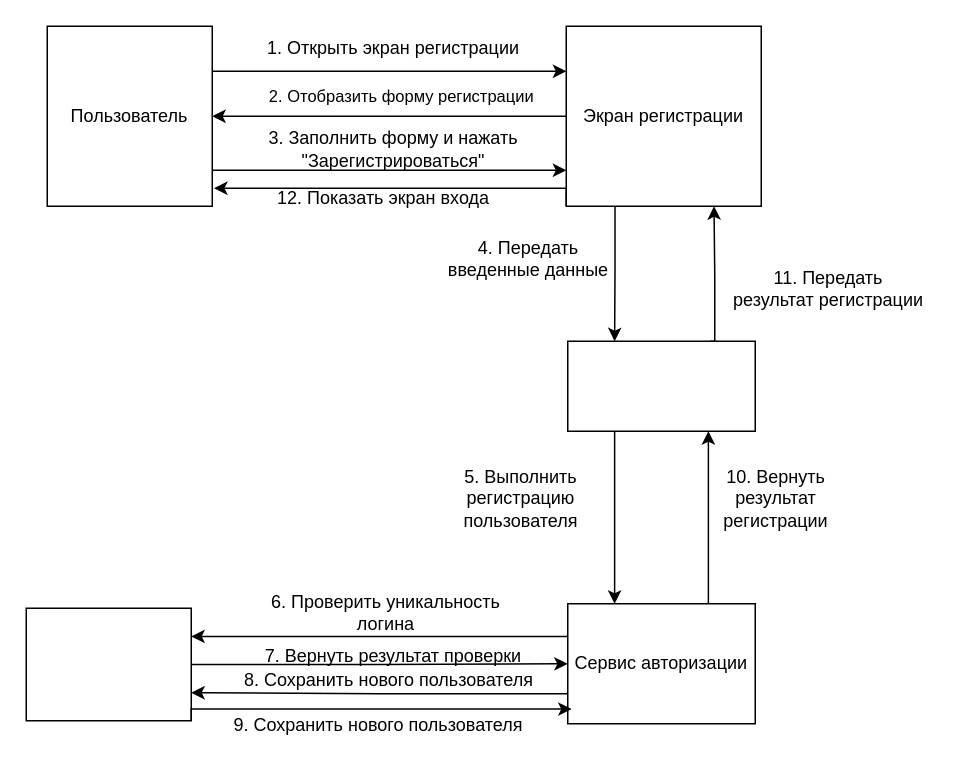
This 953x774 diagram has some shape labels left out. The shapes that lost their labels are listed below. From the top down, each one's centre as x and y in pixels, then its label:
pixel 660 385: ViewModel регистрации
pixel 108 664: БД
